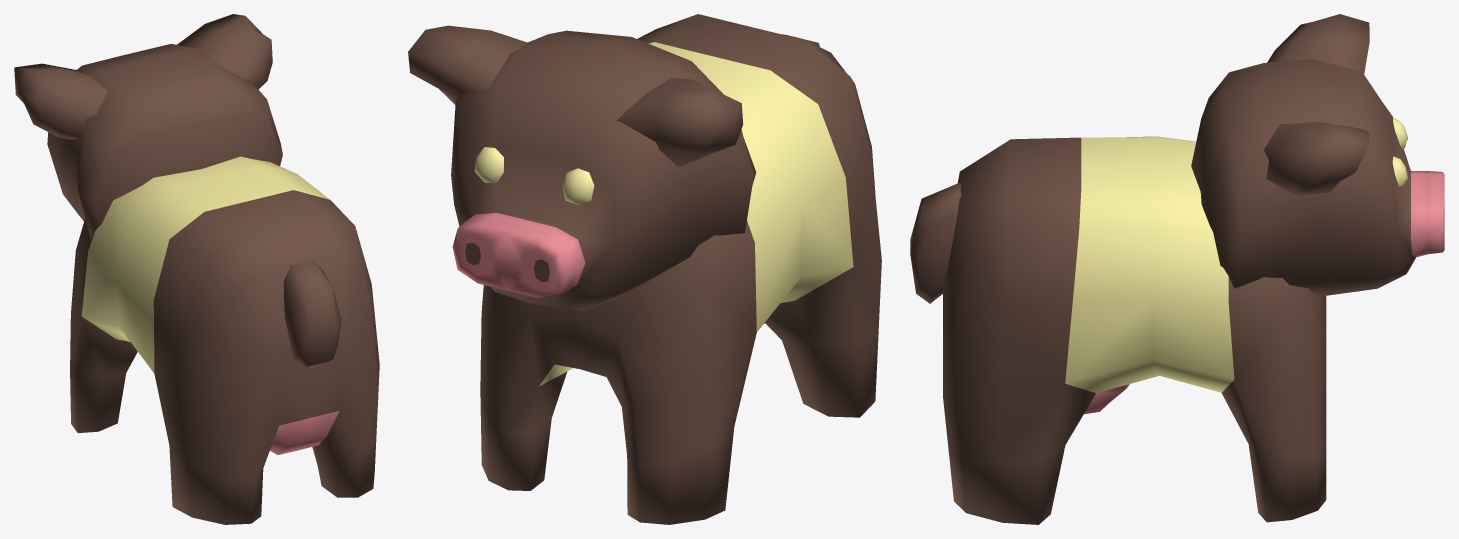
File: cow.fbx
3 renders of one model, left to right at view 1: azimuth 30°, elevation 25°; view 2: azimuth 150°, elevation 25°; view 3: azimuth 270°, elevation 25°, orthographic. The views are drawn at different scales.
Visible parts, largest first — view 1: Cube.008; view 2: Cube.008; view 3: Cube.008.
Part boxes in pixels (<box>): Cube.008: <box>14,14,379,524</box>; Cube.008: <box>408,14,881,524</box>; Cube.008: <box>910,14,1444,524</box>.
Size of the model in its own units: 407 by 551 by 672.
